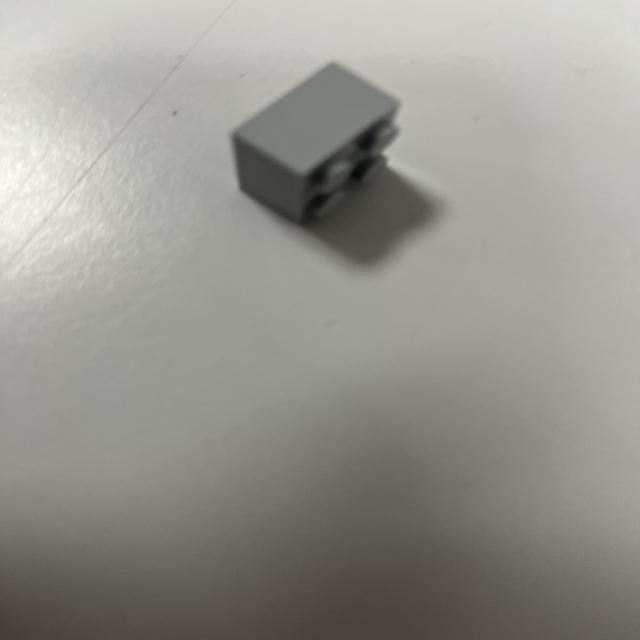C2x2x1: (233, 64, 409, 231)
